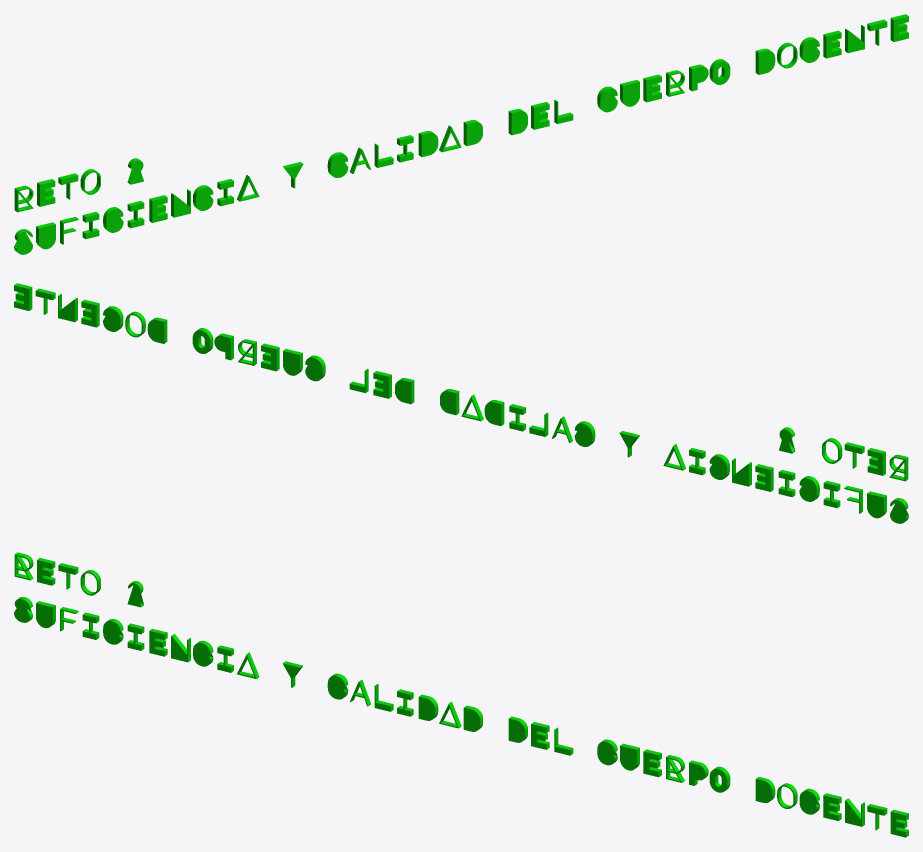
File: RETO2.fbx
3 views of the same model, one above another, from view 1: azimuth 30°, elevation 25°; view 2: azimuth 150°, elevation 25°; view 3: azimuth 330°, elevation 25° (orthographic).
Visible parts, largest first — view 1: typeMesh2; view 2: typeMesh2; view 3: typeMesh2.
Boxes of the visible parts, x1,y1,x2,y2 form: typeMesh2: [14, 14, 908, 254]; typeMesh2: [14, 283, 908, 523]; typeMesh2: [14, 552, 908, 837].
Size of the model in its own units: 429 by 30.66 by 2.5.
